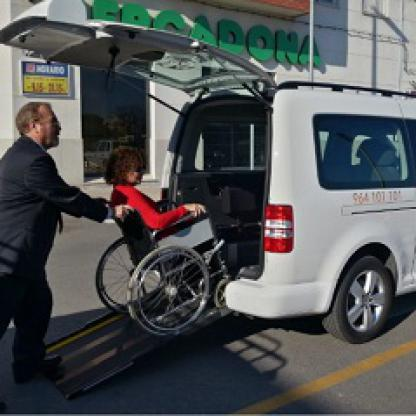wheelchair: (83, 144, 245, 332)
